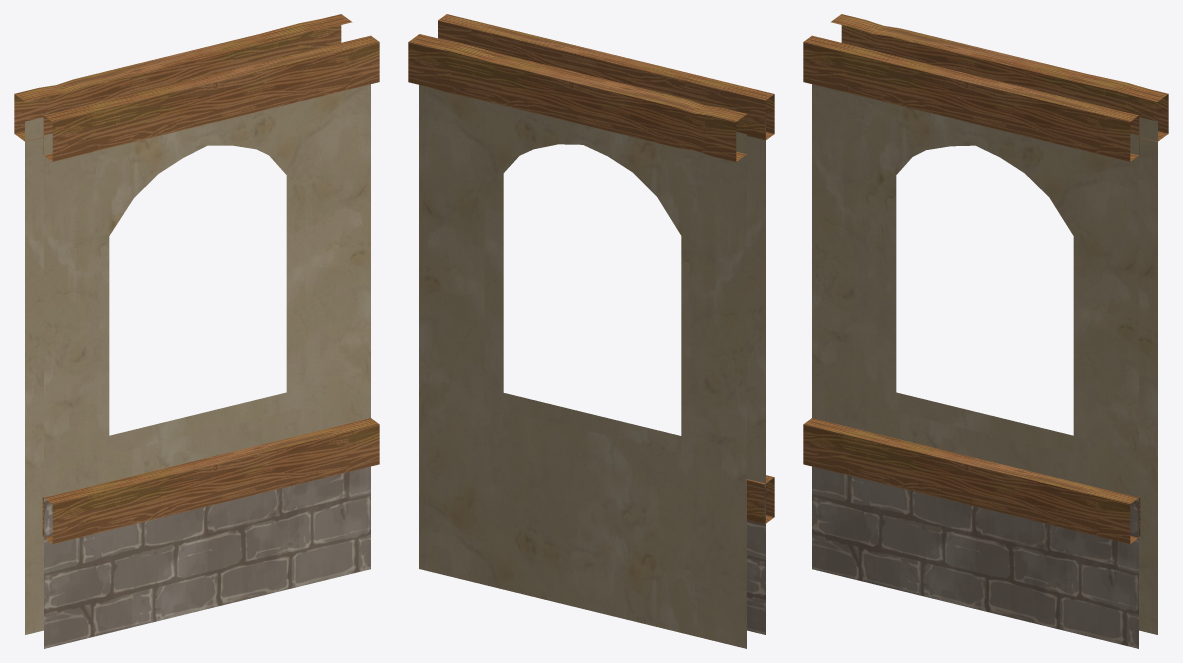
Rendered from Wall_Plaster_Window_Wide_Round.gltf.
3 views of the same model, side by side, from view 1: azimuth 30°, elevation 25°; view 2: azimuth 150°, elevation 25°; view 3: azimuth 330°, elevation 25° (orthographic).
Parts seen in each view (by area): view 1: Wall_Plaster_Window_Wide_Round; view 2: Wall_Plaster_Window_Wide_Round; view 3: Wall_Plaster_Window_Wide_Round.
Part boxes in pixels (x1,y1,x2,y2): Wall_Plaster_Window_Wide_Round: [14, 14, 379, 648]; Wall_Plaster_Window_Wide_Round: [408, 14, 774, 648]; Wall_Plaster_Window_Wide_Round: [803, 14, 1168, 648].
Bounding box in the file's own units: 2 × 3.12 × 0.4065.
Materials: 3 (3 with a texture image).
